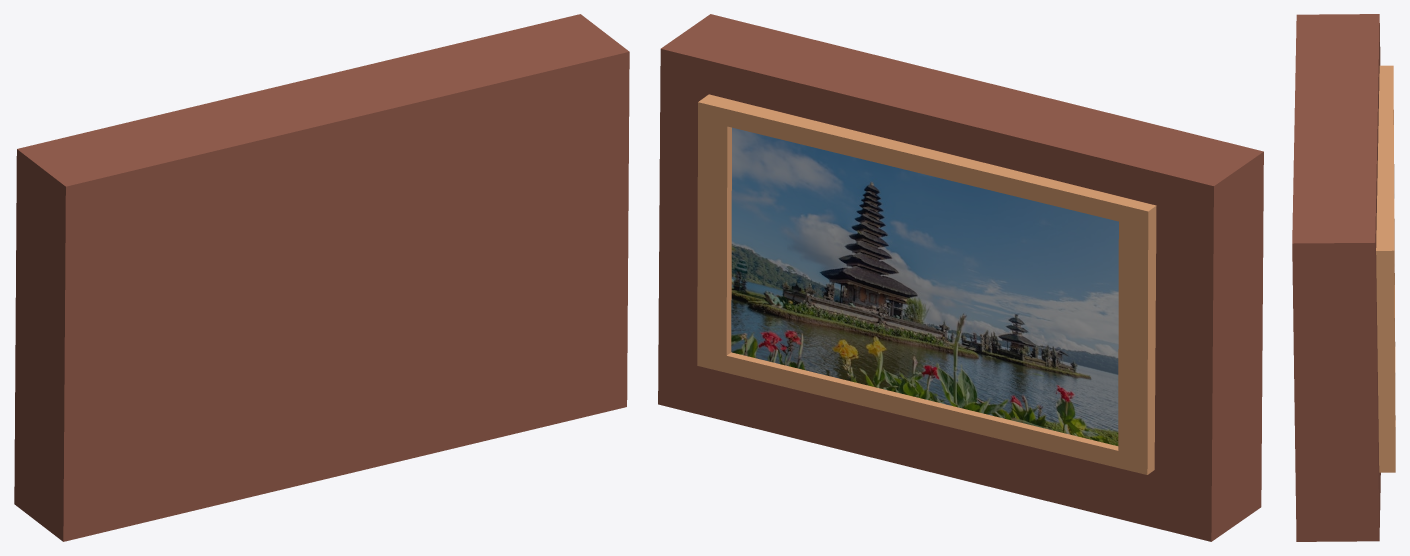
Rendered from Frameyutubbb.fbx.
3 renders of one model, left to right at view 1: azimuth 30°, elevation 25°; view 2: azimuth 150°, elevation 25°; view 3: azimuth 270°, elevation 25°, orthographic. The views are drawn at different scales.
Visible parts, largest first — view 1: Plane.008; view 2: Plane.007, Plane.008; view 3: Plane.008, Plane.007.
Boxes of the visible parts, x1,y1,x2,y2 form: Plane.008: (14, 14, 629, 541); Plane.007: (697, 94, 1156, 474); Plane.008: (658, 14, 1263, 541); Plane.008: (1292, 14, 1380, 541); Plane.007: (1376, 65, 1395, 472).
Bounding box in the file's own units: 3042 × 1854 × 581.
